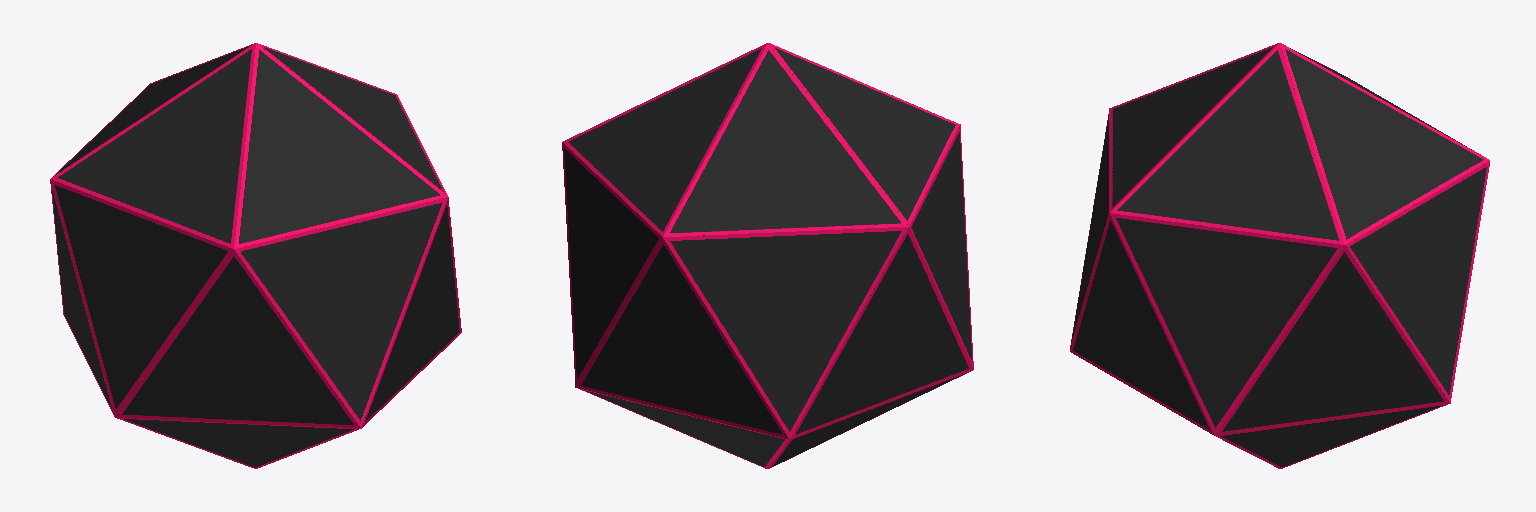
3 renders of one model, left to right at view 1: azimuth 30°, elevation 25°; view 2: azimuth 150°, elevation 25°; view 3: azimuth 270°, elevation 25°, orthographic.
Parts seen in each view (by area): view 1: Solid; view 2: Solid; view 3: Solid.
Boxes of the visible parts, <box> form: Solid: <box>50,43,461,468</box>; Solid: <box>562,43,973,468</box>; Solid: <box>1070,43,1489,468</box>.
Size of the model in its own units: 1.7 by 2 by 1.79.
Materials: 1 (1 with a texture image).